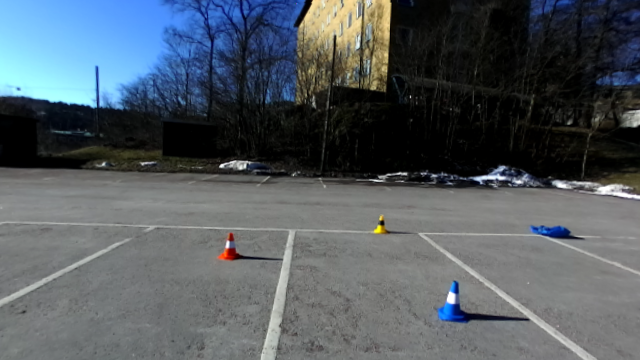blue: (433, 278, 471, 323)
orange: (214, 230, 244, 263)
yellow: (371, 212, 389, 235)
